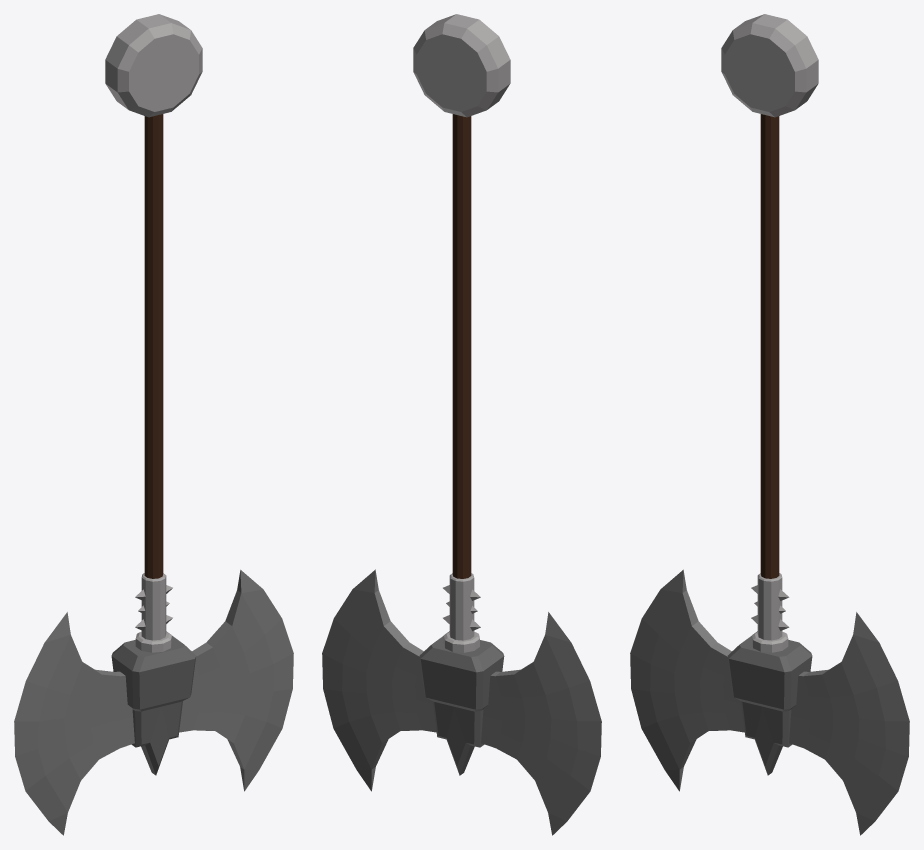
Rendered from StonePendulumTrap_5.fbx.
3 views of the same model, side by side, from view 1: azimuth 30°, elevation 25°; view 2: azimuth 150°, elevation 25°; view 3: azimuth 330°, elevation 25° (orthographic).
Visible parts, largest first — view 1: StonePendulumTrap_5; view 2: StonePendulumTrap_5; view 3: StonePendulumTrap_5.
Boxes of the visible parts, x1,y1,x2,y2 form: StonePendulumTrap_5: (14, 14, 293, 835); StonePendulumTrap_5: (322, 14, 601, 835); StonePendulumTrap_5: (630, 14, 909, 835).
Bounding box in the file's own units: 125 × 337 × 20.63.
